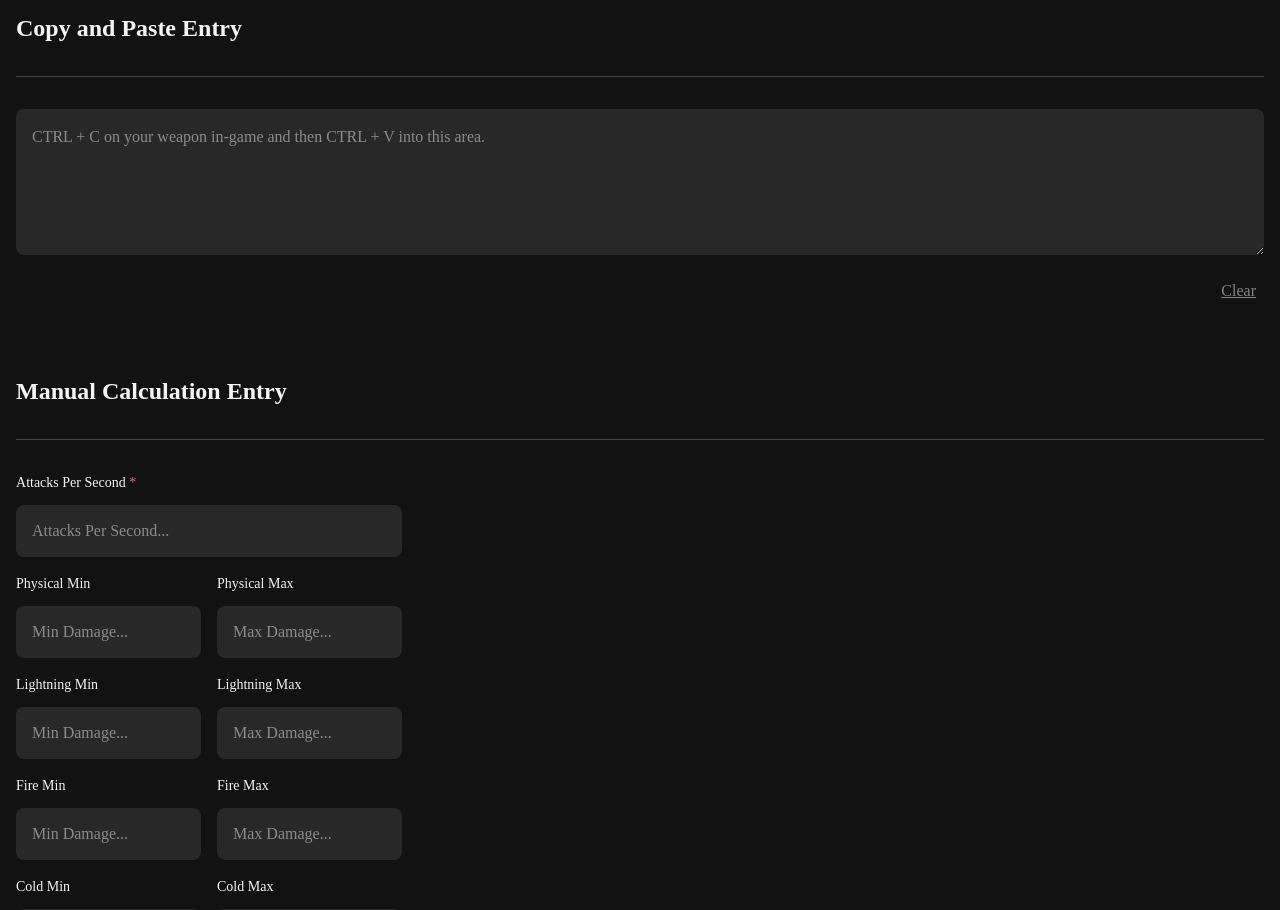
Scenario: <DpsCalc /> › manual calculation section › GIVEN the DpsCalc component is rendered WHEN values are entered › THEN the calculated dps is displayed
The width and height of the screenshot is (1280, 910).
Type "1.4" into the field labelled "Attacks Per Second *".
click(209, 531); type("1.4")  # box [16,505,402,557]
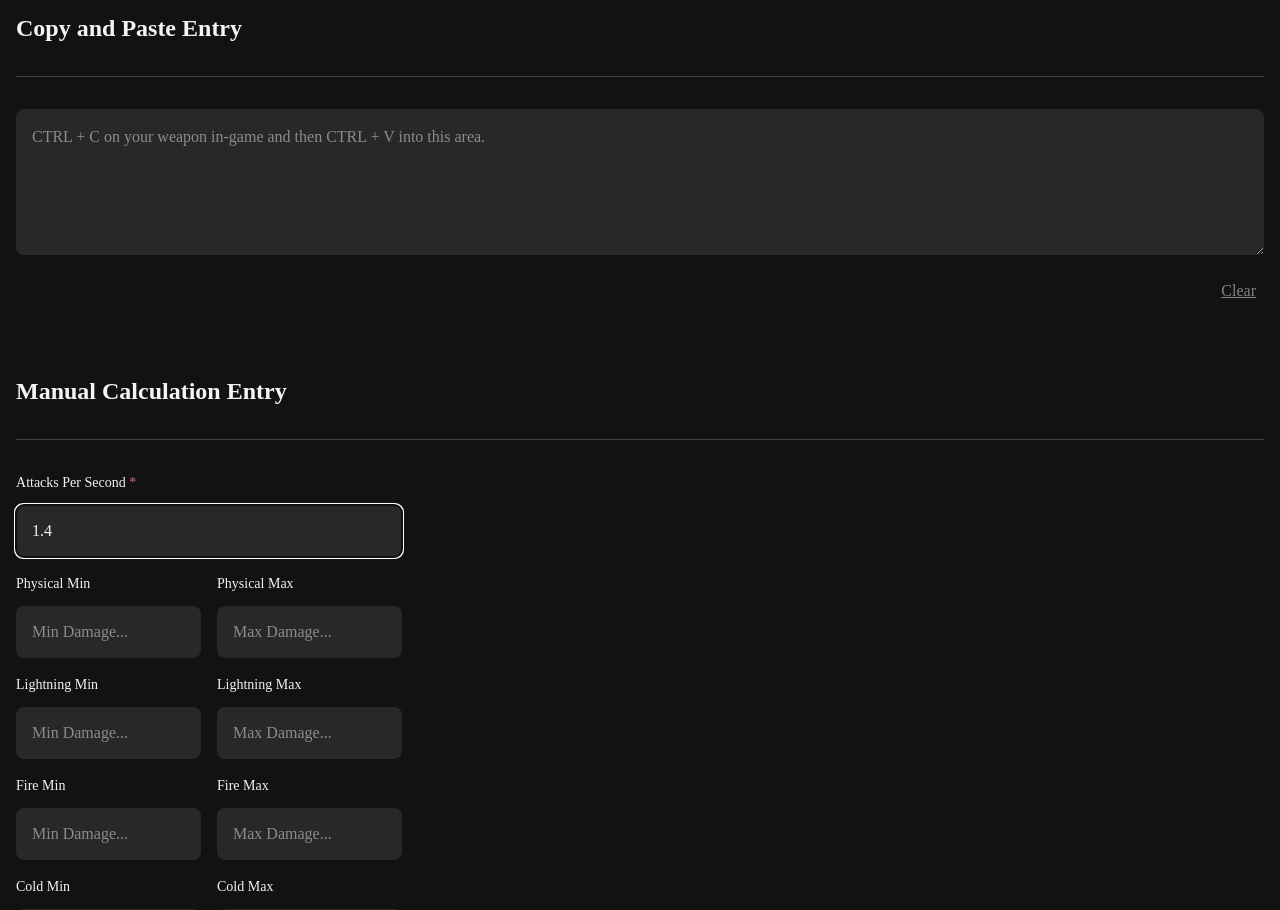
Type "10" into the field labelled "physical Min".
click(108, 632); type("10")  # box [16,606,201,658]
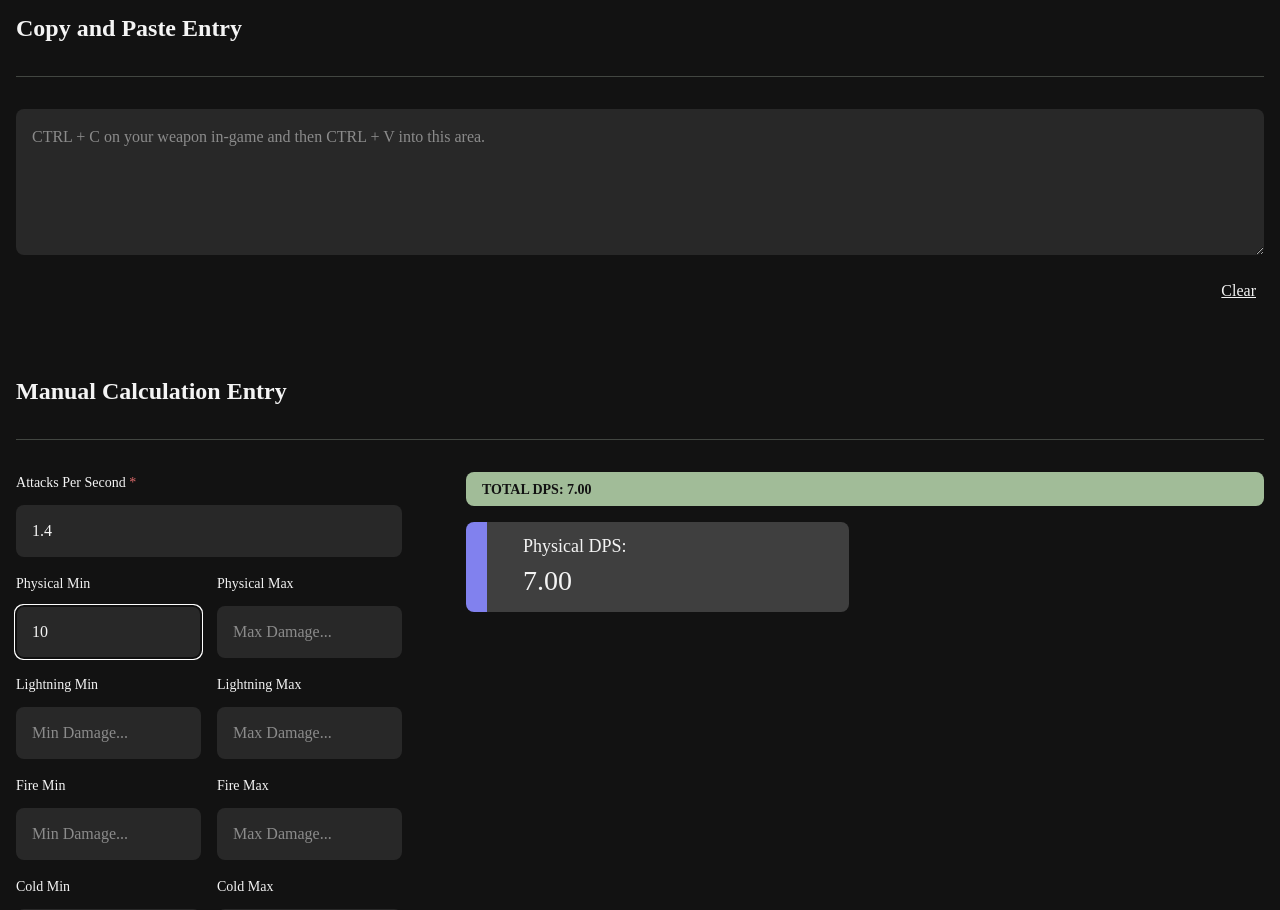
Type "20" into the field labelled "physical Max".
click(310, 632); type("20")  # box [217,606,402,658]
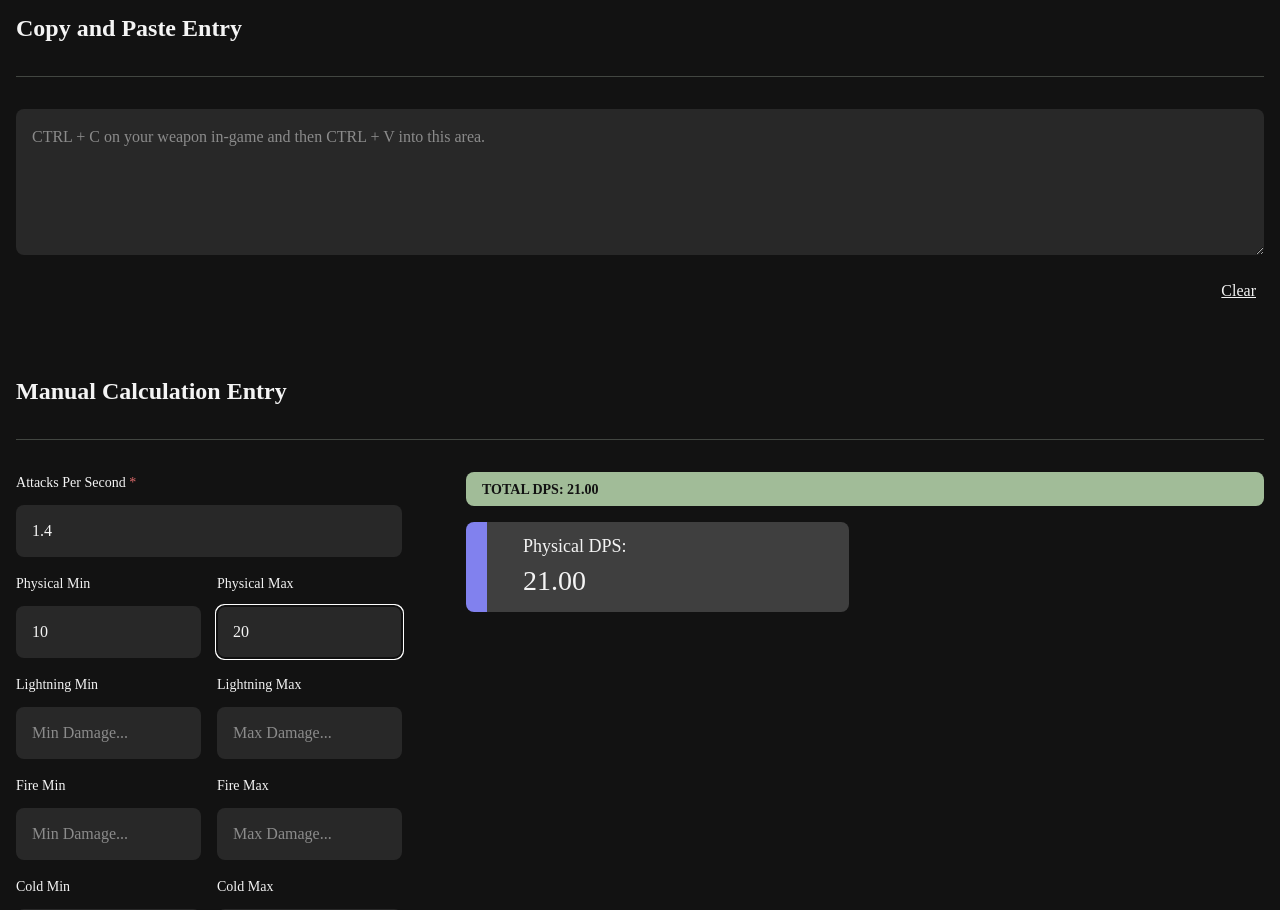
Expected: the text "21.00" is shown, [523,565,586,596]
Expected: the text "TOTAL DPS: 21.00" is shown, [482,482,599,497]
